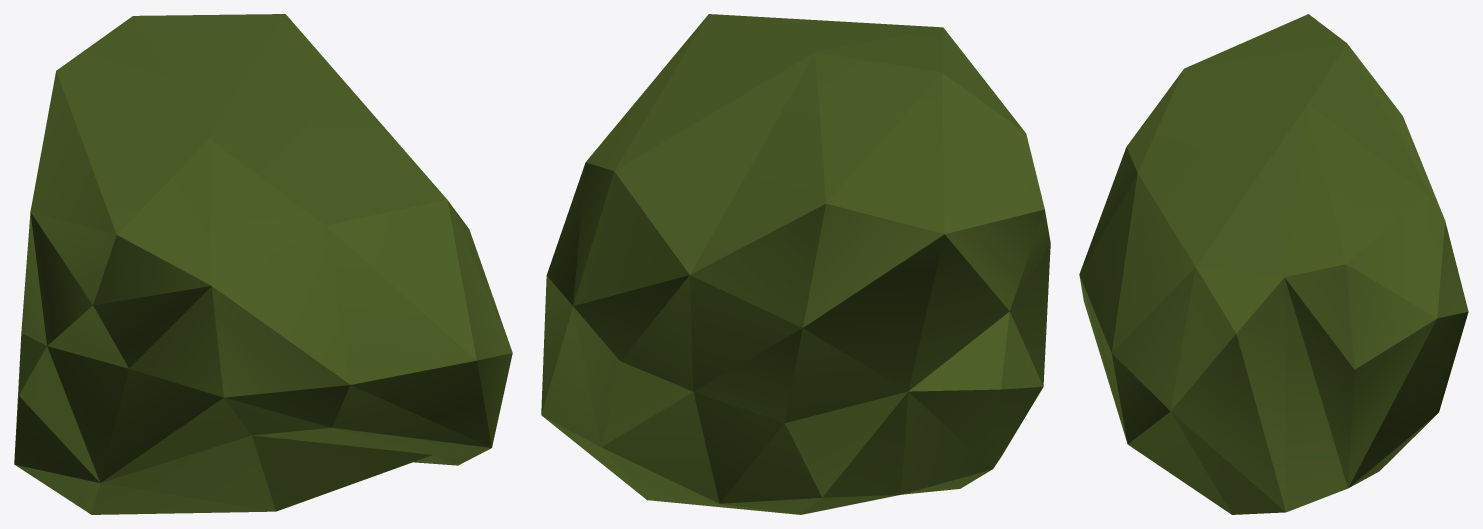
File: SM_bush_04.fbx
The picture shows the model from 3 angles, left to right: view 1: azimuth 30°, elevation 25°; view 2: azimuth 150°, elevation 25°; view 3: azimuth 270°, elevation 25°; orthographic projection. The views are drawn at different scales.
Visible parts, largest first — view 1: Object4124; view 2: Object4124; view 3: Object4124.
Part boxes in pixels (box(x1,y1,x2,y2)): Object4124: box(14, 14, 512, 514); Object4124: box(541, 14, 1050, 514); Object4124: box(1079, 14, 1468, 514).
Size of the model in its own units: 37.79 by 38.32 by 36.38.
